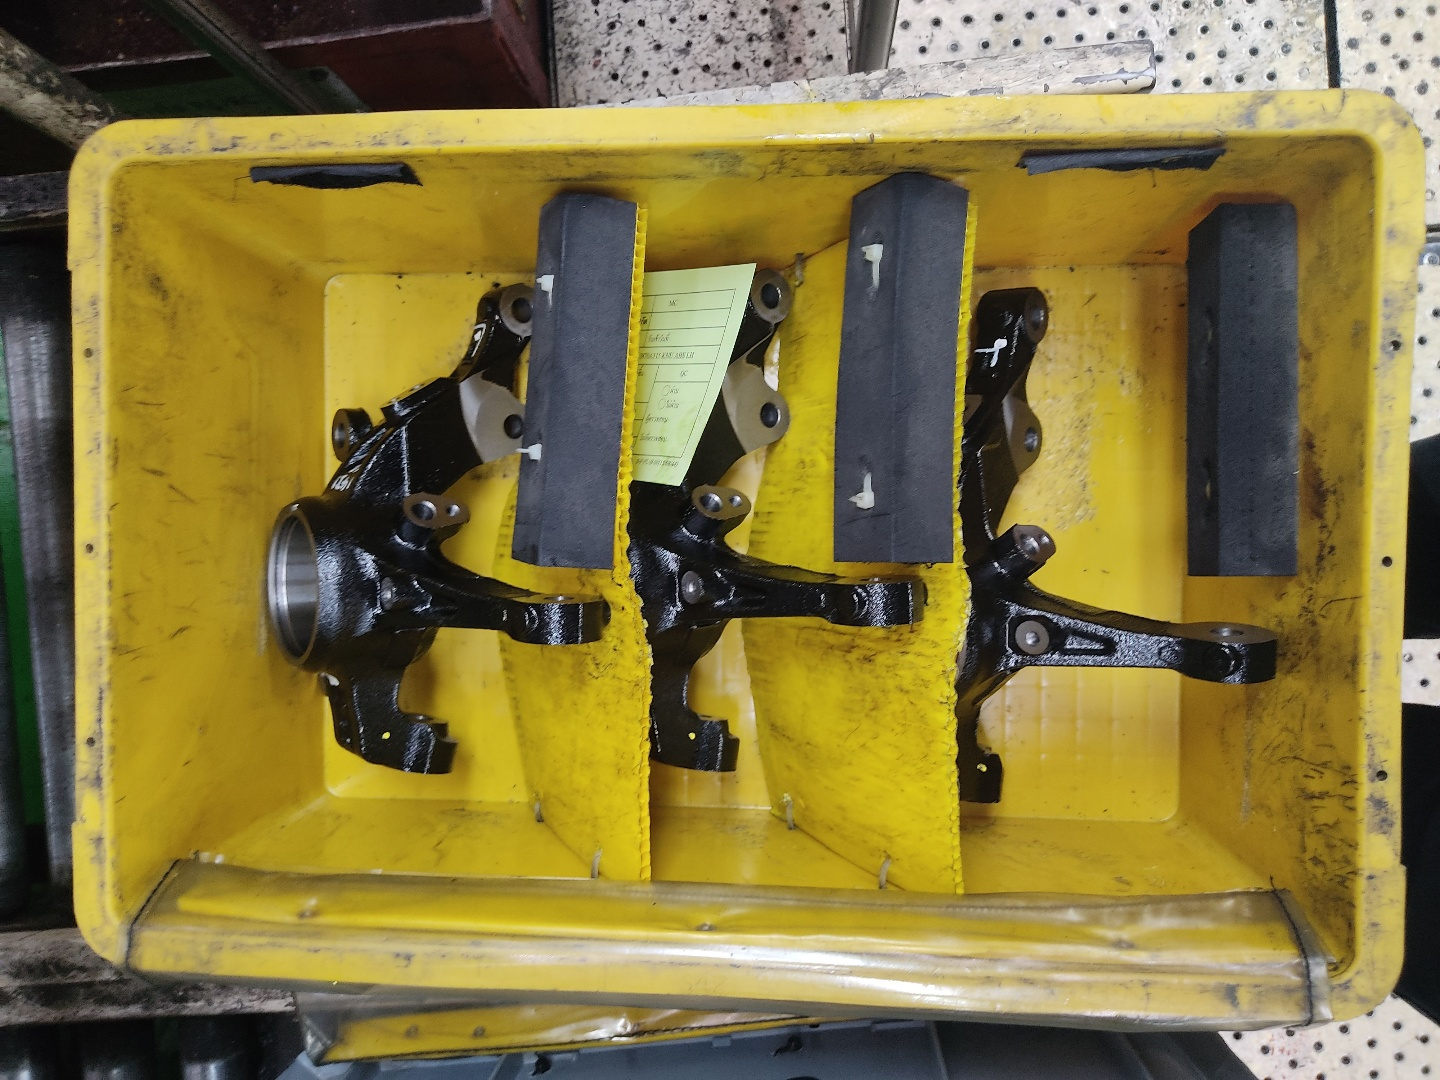abs-lh: (257, 277, 617, 785), (954, 275, 1281, 809), (622, 264, 935, 785)
